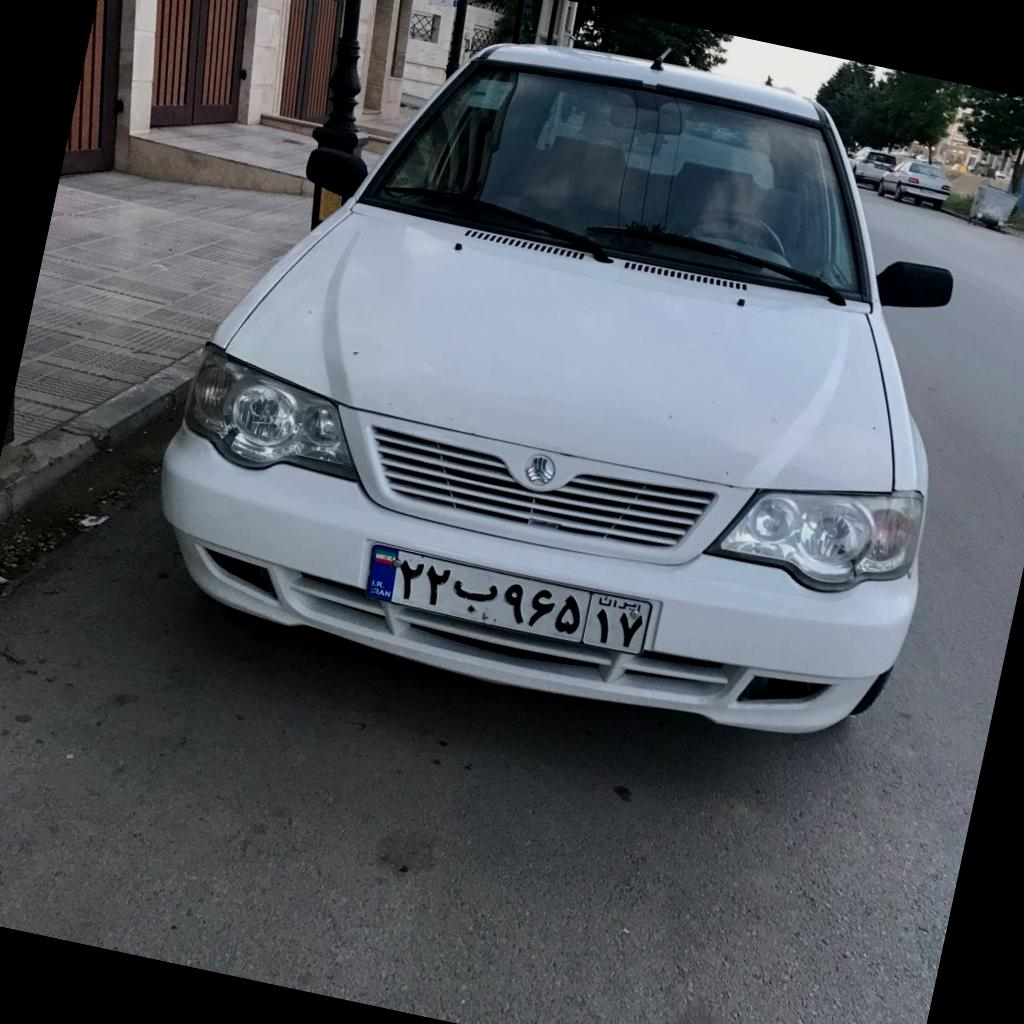Plates: (367, 542, 652, 656)
